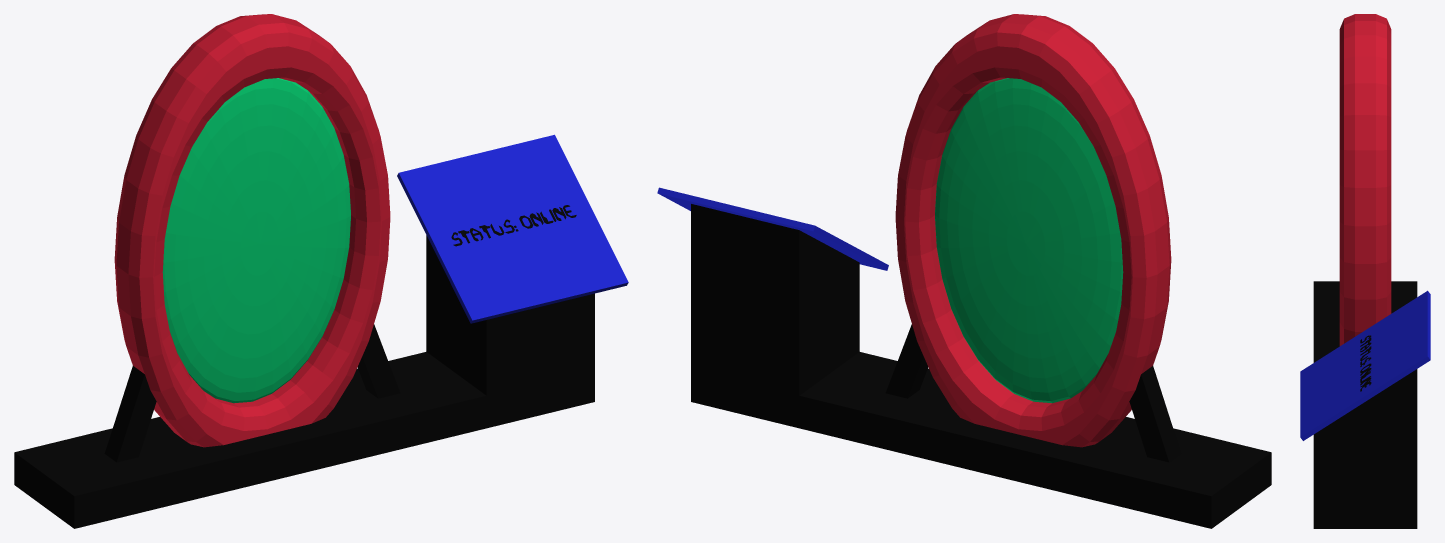
Rendered from Portal ON.obj.
3 views of the same model, side by side, from view 1: azimuth 30°, elevation 25°; view 2: azimuth 150°, elevation 25°; view 3: azimuth 270°, elevation 25° (orthographic). The views are drawn at different scales.
Visible parts, largest first — view 1: Portal_ON_Sphere_Material.010, Portal_ON_Sphere_Material.009, Portal_ON_Sphere_Material.001, Portal_ON_Sphere_Material.008, Portal_ON_Sphere_Material.004; view 2: Portal_ON_Sphere_Material.010, Portal_ON_Sphere_Material.009, Portal_ON_Sphere_Material.001, Portal_ON_Sphere_Material.008; view 3: Portal_ON_Sphere_Material.009, Portal_ON_Sphere_Material.010, Portal_ON_Sphere_Material.008, Portal_ON_Sphere_Material.004.
Part boxes in pixels (<box>): Portal_ON_Sphere_Material.010: <box>14,235,594,528</box>; Portal_ON_Sphere_Material.009: <box>114,14,390,447</box>; Portal_ON_Sphere_Material.001: <box>162,78,350,403</box>; Portal_ON_Sphere_Material.008: <box>397,134,628,323</box>; Portal_ON_Sphere_Material.004: <box>451,205,576,246</box>; Portal_ON_Sphere_Material.010: <box>691,204,1271,528</box>; Portal_ON_Sphere_Material.009: <box>895,14,1171,447</box>; Portal_ON_Sphere_Material.001: <box>935,78,1123,403</box>; Portal_ON_Sphere_Material.008: <box>657,187,888,270</box>; Portal_ON_Sphere_Material.009: <box>1339,14,1391,345</box>; Portal_ON_Sphere_Material.010: <box>1313,281,1417,528</box>; Portal_ON_Sphere_Material.008: <box>1300,290,1430,440</box>; Portal_ON_Sphere_Material.004: <box>1360,335,1371,391</box>.
Size of the model in its own units: 5.25 by 4 by 1.26.
